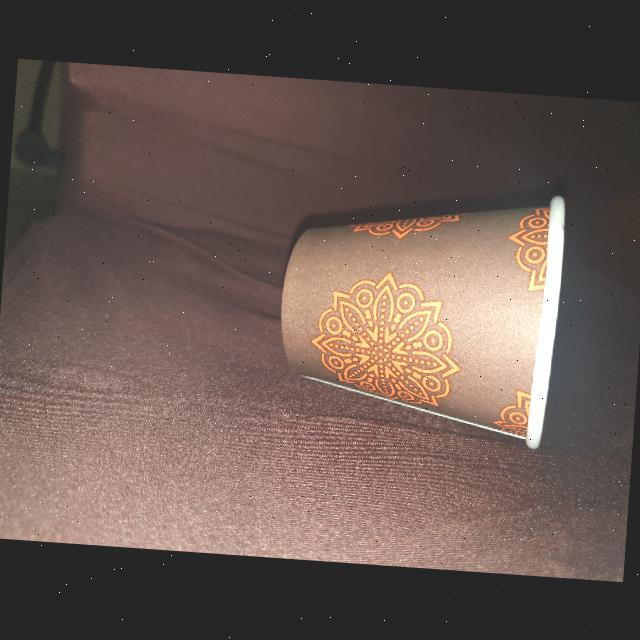trash: (263, 170, 578, 456)
